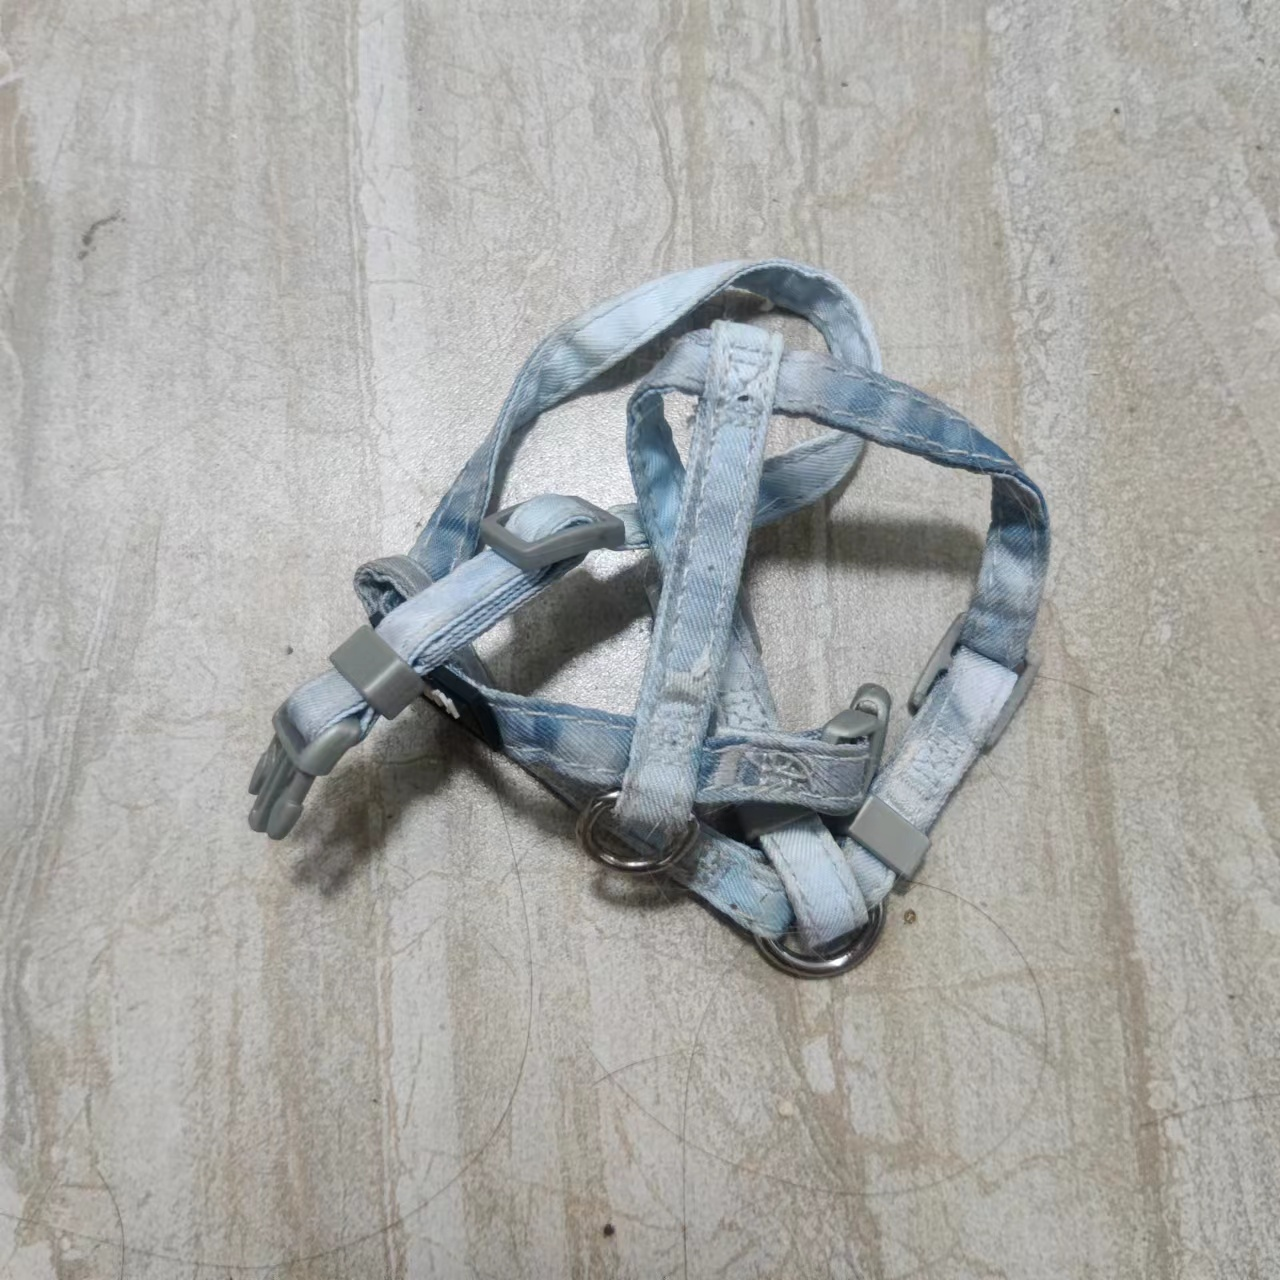9/可回收垃圾/绳子: (244, 254, 1053, 983)
